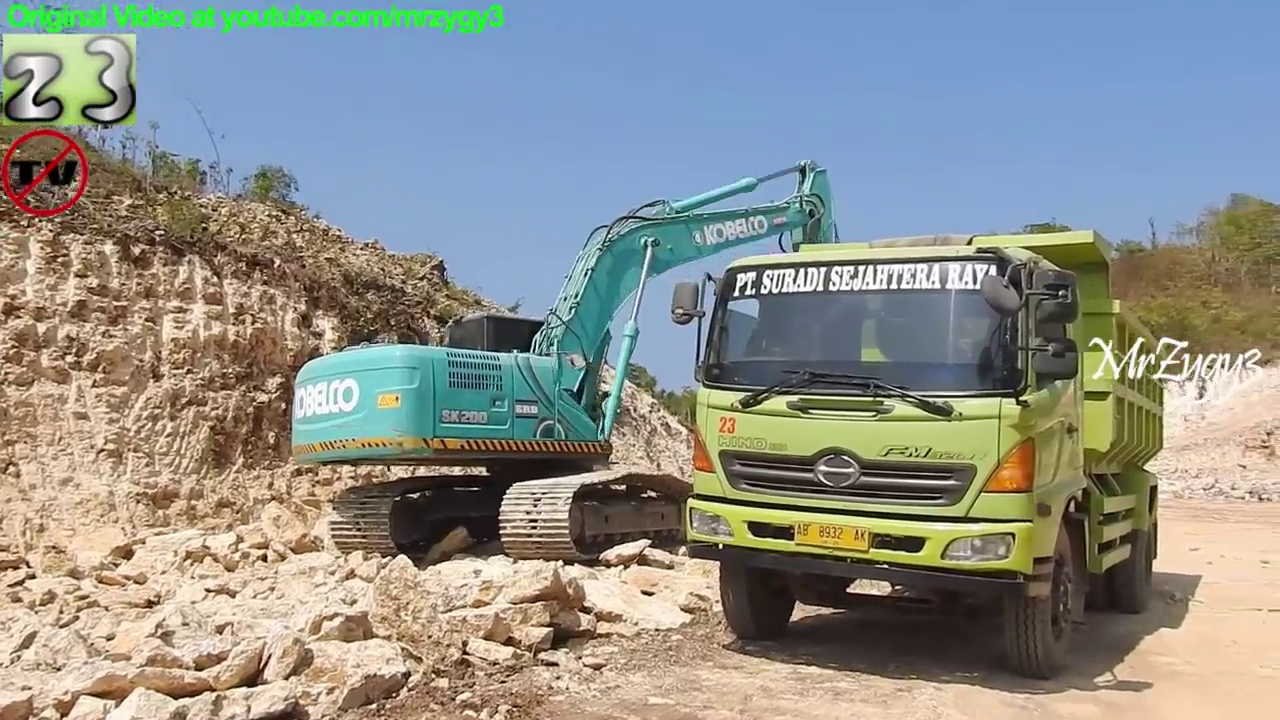excavator: (279, 155, 913, 576)
truck: (665, 220, 1177, 685)
